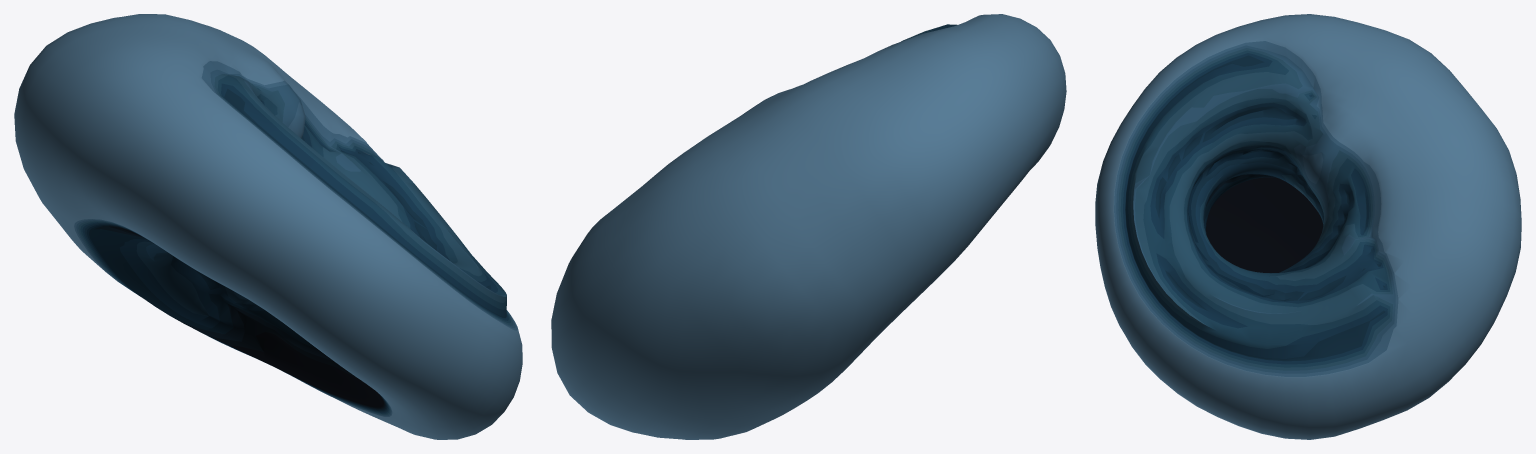
File: donut_131.glb
3 renders of one model, left to right at view 1: azimuth 30°, elevation 25°; view 2: azimuth 150°, elevation 25°; view 3: azimuth 270°, elevation 25°, orthographic. The views are drawn at different scales.
Visible parts, largest first — view 1: donut_131; view 2: donut_131; view 3: donut_131, donut_131_membrane.
Boxes of the visible parts, x1=… form: donut_131: x1=14, y1=14, x2=522, y2=439; donut_131: x1=551, y1=14, x2=1066, y2=439; donut_131: x1=1095, y1=14, x2=1521, y2=439; donut_131_membrane: x1=1206, y1=177, x2=1323, y2=272.
Size of the model in its own units: 19.19 by 18.41 by 22.59.
